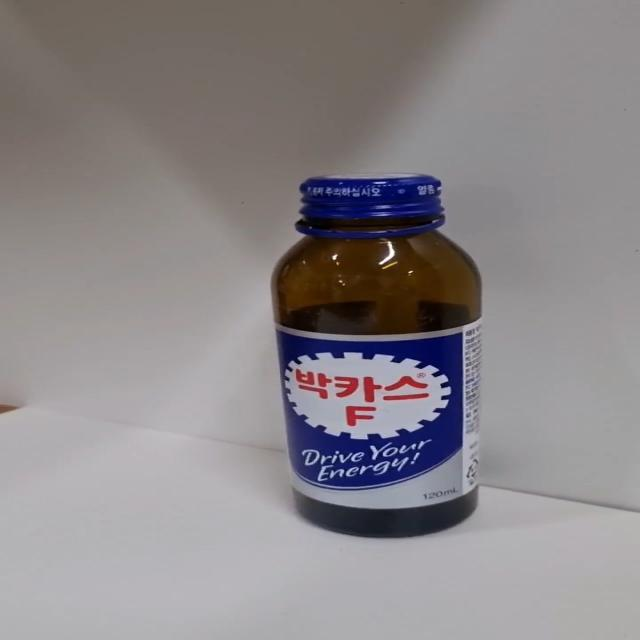Glass: (268, 174, 484, 540)
